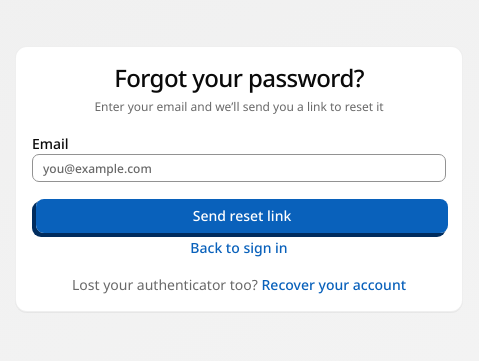
Scenario: surfaces a 429 as a rate-limit message
Type "flood@example.com" into the field labelled "Email" at (239, 168), box 32,154 -> 446,182
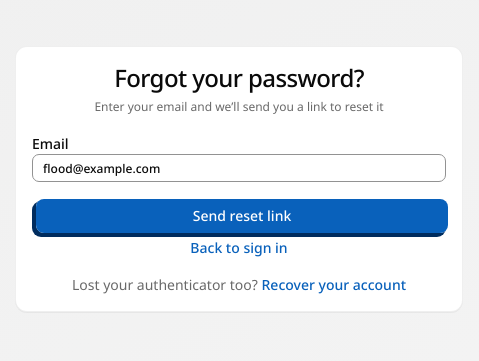
Click the button "Send reset link" at (242, 216), box 35,198 -> 449,234
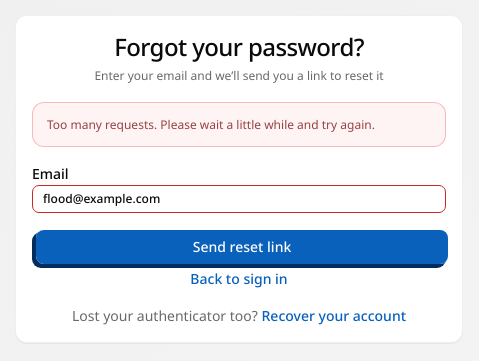
Expected: the text "Too many requests. Please wait a little while and try again." is shown, 47,115 -> 431,134
